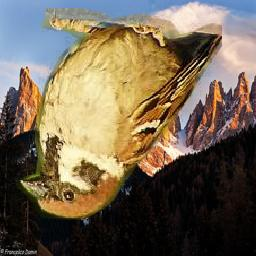Sparrow: (16, 8, 222, 220)
